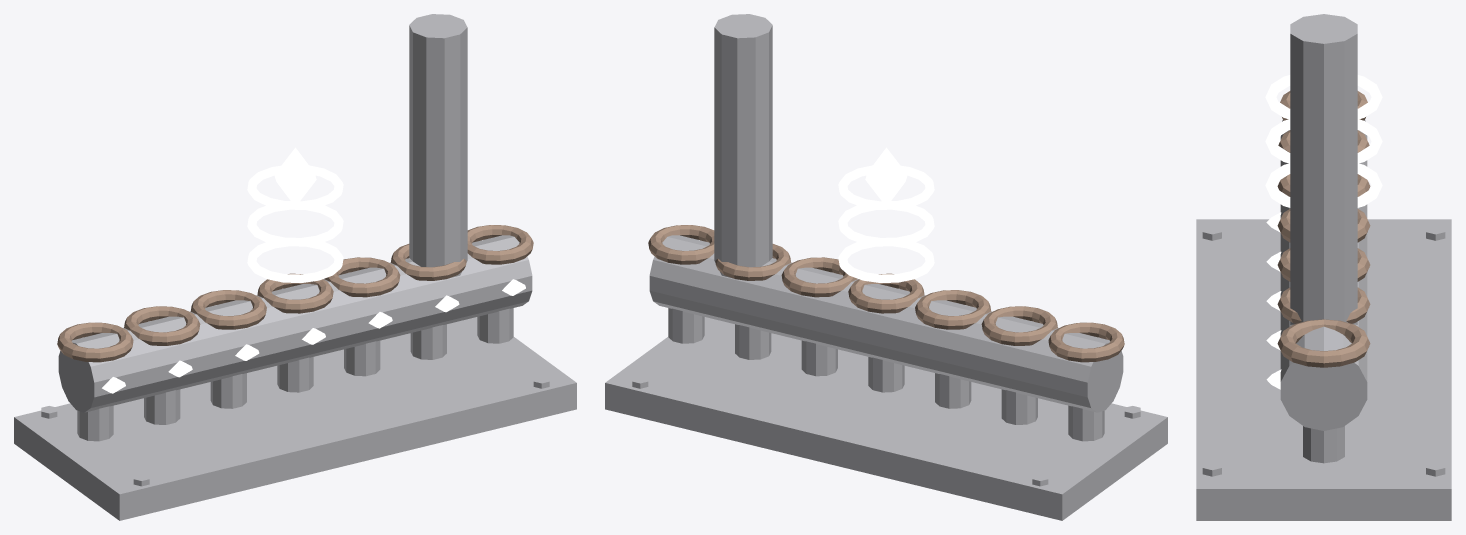
File: pipeline_mythic.glb
The picture shows the model from 3 angles, left to right: view 1: azimuth 30°, elevation 25°; view 2: azimuth 150°, elevation 25°; view 3: azimuth 270°, elevation 25°; orthographic projection. The views are drawn at different scales.
Visible parts, largest first — view 1: pipeline; view 2: pipeline; view 3: pipeline.
Part boxes in pixels (box(x1,y1,x2,y2)): pipeline: box(14, 14, 576, 520); pipeline: box(605, 14, 1167, 520); pipeline: box(1196, 14, 1451, 520).
Size of the model in its own units: 2.94 by 2.2 by 1.15.
